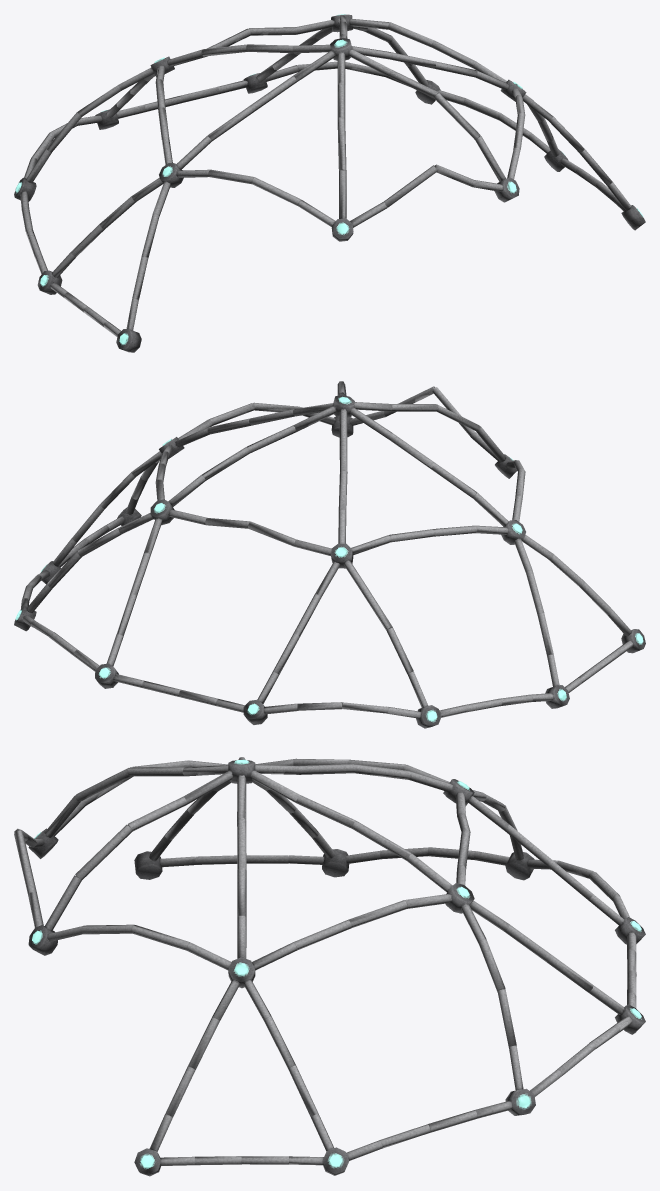
The model's file is mr1_mesh_relay.gltf.
3 renders of one model, top to bottom at view 1: azimuth 30°, elevation 25°; view 2: azimuth 150°, elevation 25°; view 3: azimuth 270°, elevation 25°, orthographic. The views are drawn at different scales.
Visible parts, largest first — view 1: B_head__mr1_mesh_relay; view 2: B_head__mr1_mesh_relay; view 3: B_head__mr1_mesh_relay.
Boxes of the visible parts, bbox=[...] form: B_head__mr1_mesh_relay: bbox=[14, 14, 645, 352]; B_head__mr1_mesh_relay: bbox=[14, 381, 645, 728]; B_head__mr1_mesh_relay: bbox=[14, 757, 645, 1176].
Size of the model in its own units: 0.175 by 0.0703 by 0.1508.
1 material, 1 textured.
